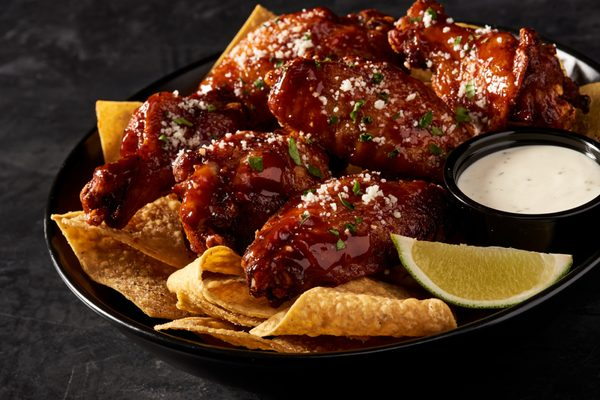sushi: (443, 125, 600, 253)
taco: (389, 233, 577, 308)
